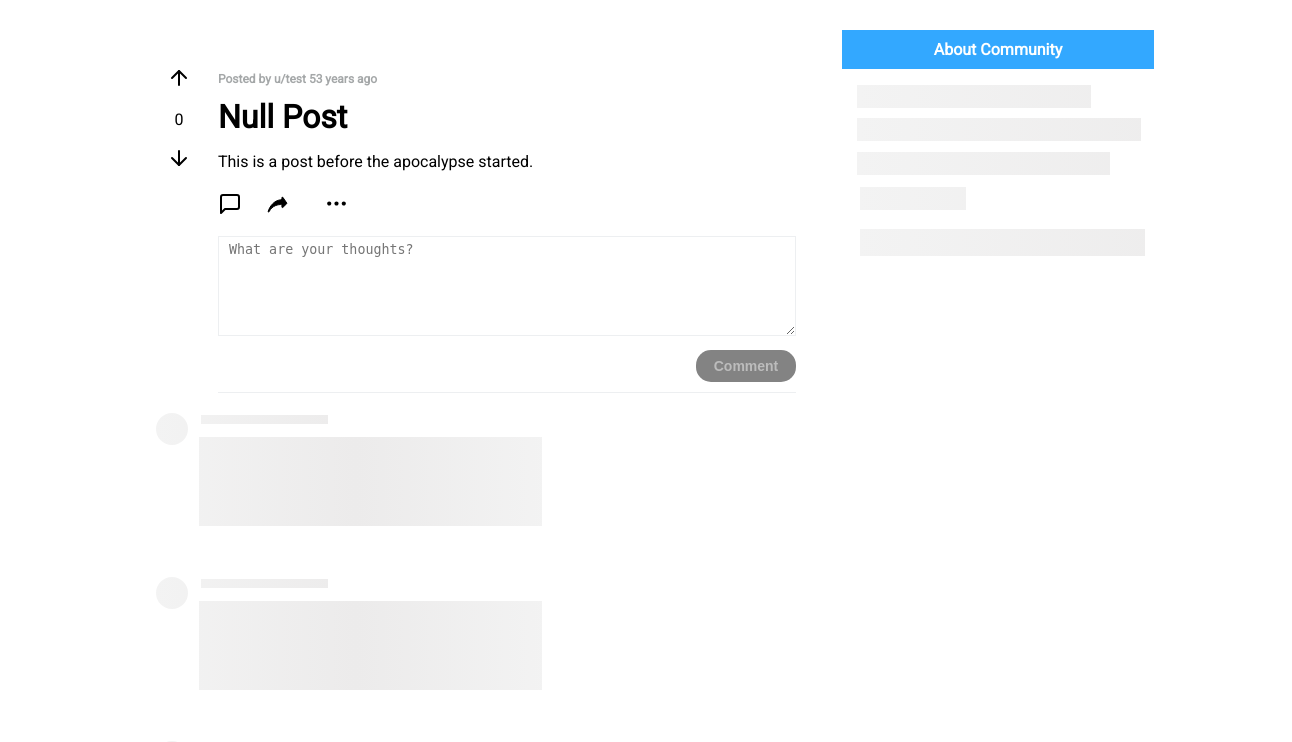
it: PostDetails › ShowMore works in the context of a post › Dropdown opens on click
This screenshot has width=1292, height=742.
Click the element with test id "show-more" at (336,204), box [324,191,349,216]
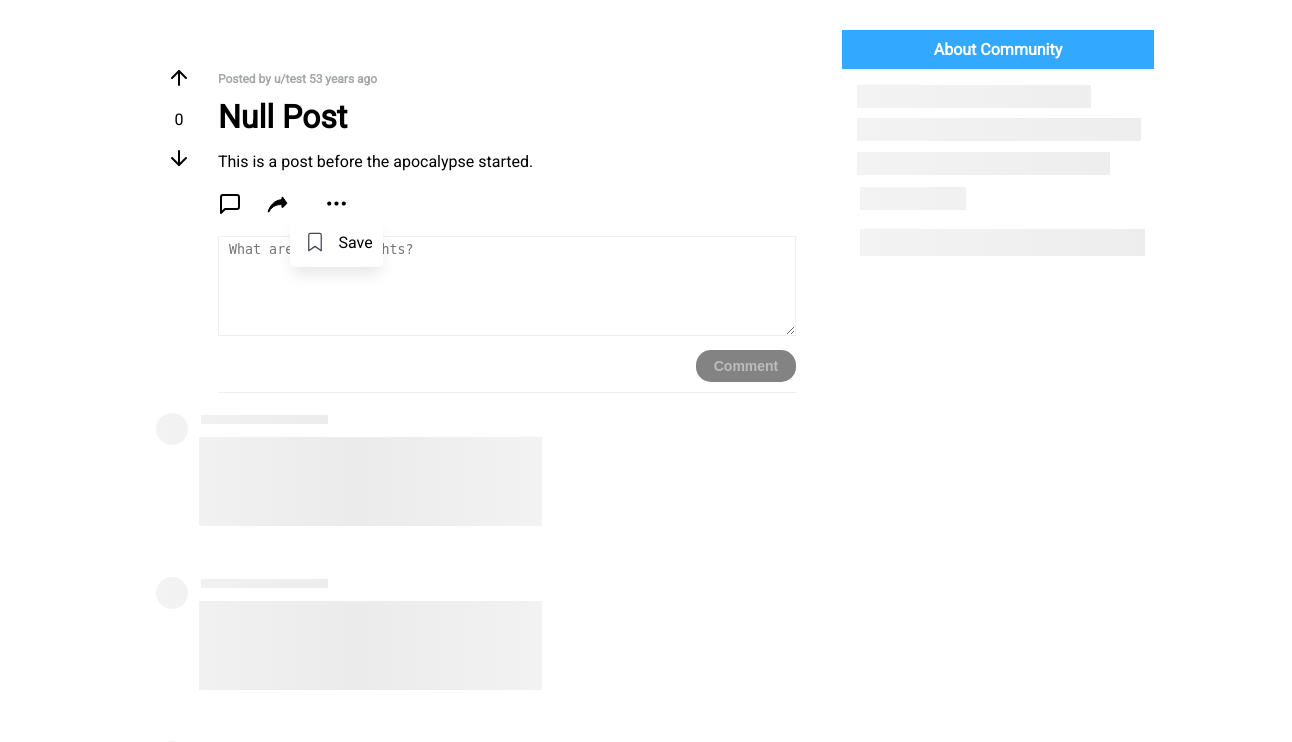
Now the list with test id "content-dropdown" is shown, box [290,217,383,267]
Now the list item with test id "save" is shown, box [300,227,373,257]
